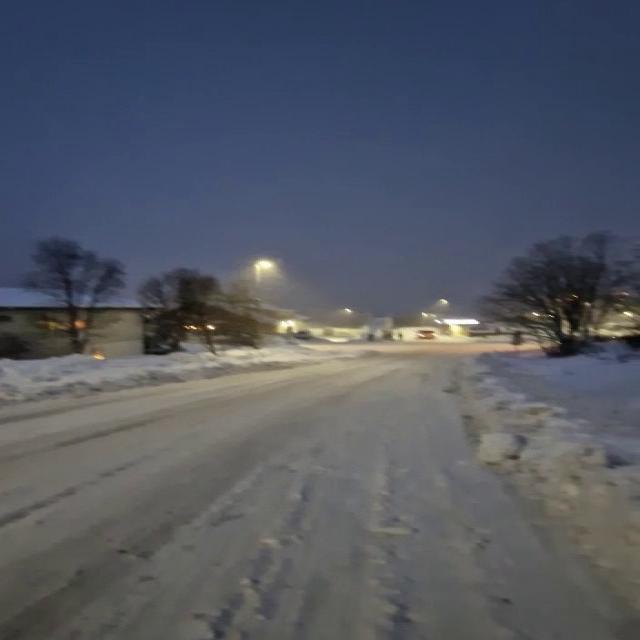path: (3, 352, 629, 640)
